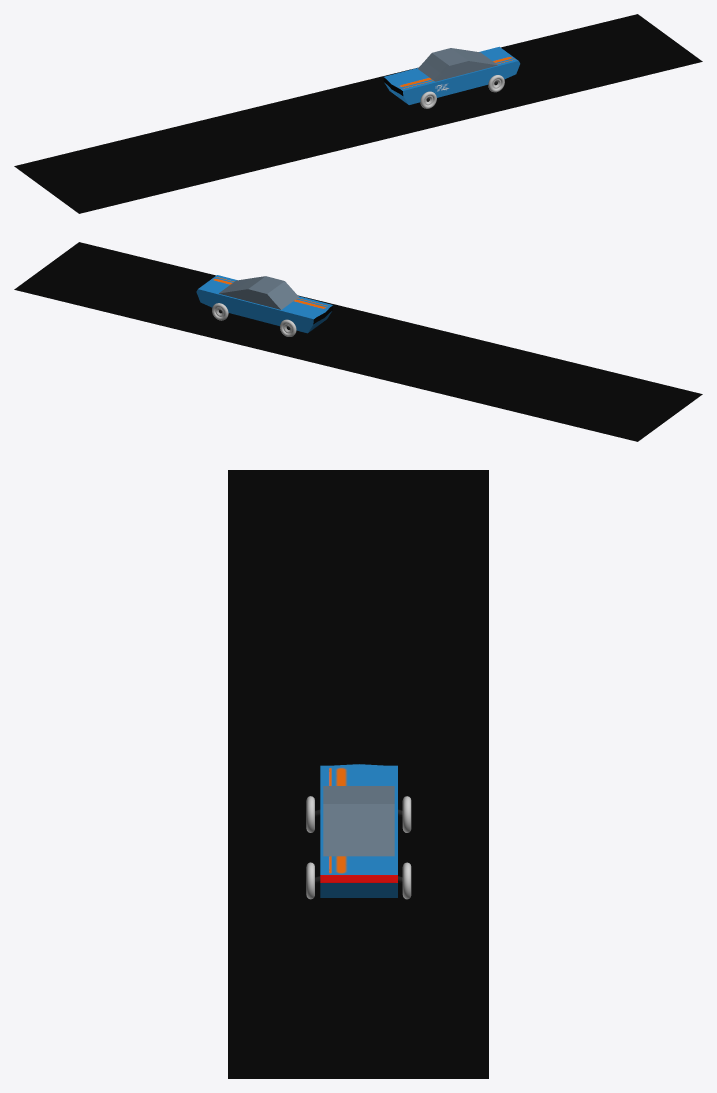
File: car.obj
The picture shows the model from 3 angles, top to bottom: view 1: azimuth 30°, elevation 25°; view 2: azimuth 150°, elevation 25°; view 3: azimuth 270°, elevation 25°; orthographic projection. The views are drawn at different scales.
Visible parts, largest first — view 1: Road_Plane, Body_Cube.003, Hood_Cube.002; view 2: Road_Plane, Body_Cube.003, Hood_Cube.002; view 3: Road_Plane, Body_Cube.003, Hood_Cube.002.
Boxes of the visible parts, bbox=[...] form: Road_Plane: bbox=[14, 14, 702, 213]; Body_Cube.003: bbox=[383, 46, 520, 104]; Hood_Cube.002: bbox=[418, 48, 497, 81]; Road_Plane: bbox=[14, 242, 702, 441]; Body_Cube.003: bbox=[196, 275, 333, 333]; Hood_Cube.002: bbox=[219, 276, 298, 309]; Road_Plane: bbox=[228, 470, 488, 1078]; Body_Cube.003: bbox=[320, 764, 397, 897]; Hood_Cube.002: bbox=[323, 786, 394, 856].
Size of the model in its own units: 20.2 by 1.08 by 3.66.
